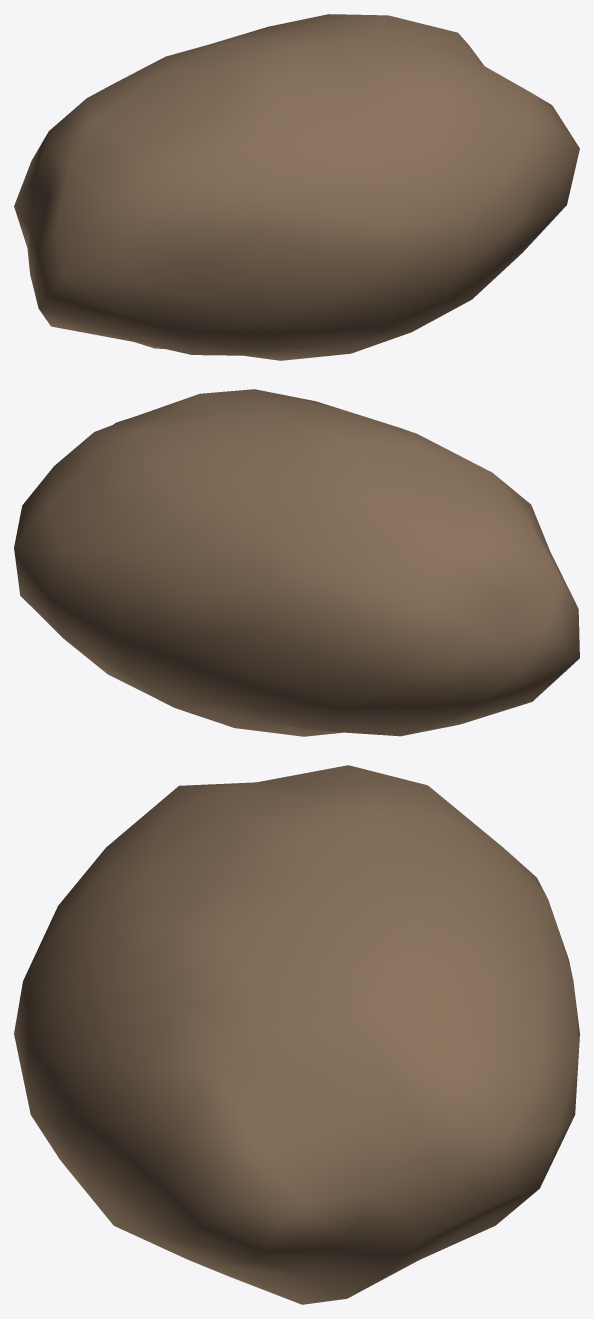
The model's file is simple_route_rock.glb.
The picture shows the model from 3 angles, top to bottom: view 1: azimuth 30°, elevation 25°; view 2: azimuth 150°, elevation 25°; view 3: azimuth 270°, elevation 25°; orthographic projection. The views are drawn at different scales.
Parts seen in each view (by area): view 1: RouteRock-col; view 2: RouteRock-col; view 3: RouteRock-col.
Part boxes in pixels (<box>): RouteRock-col: <box>14,14,579,360</box>; RouteRock-col: <box>14,389,579,736</box>; RouteRock-col: <box>14,765,579,1304</box>.
Size of the model in its own units: 8.3 by 4.23 by 5.5.
